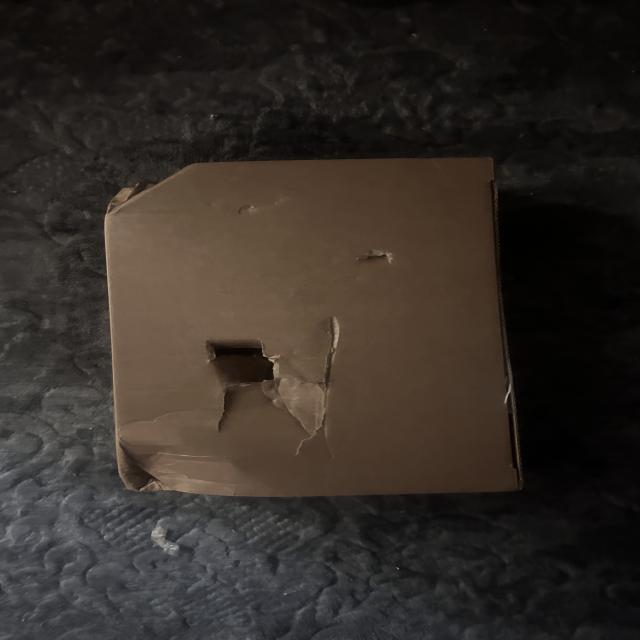damaged: (99, 152, 536, 504), (192, 317, 360, 458), (101, 428, 232, 504), (108, 160, 202, 213), (347, 246, 397, 276)
